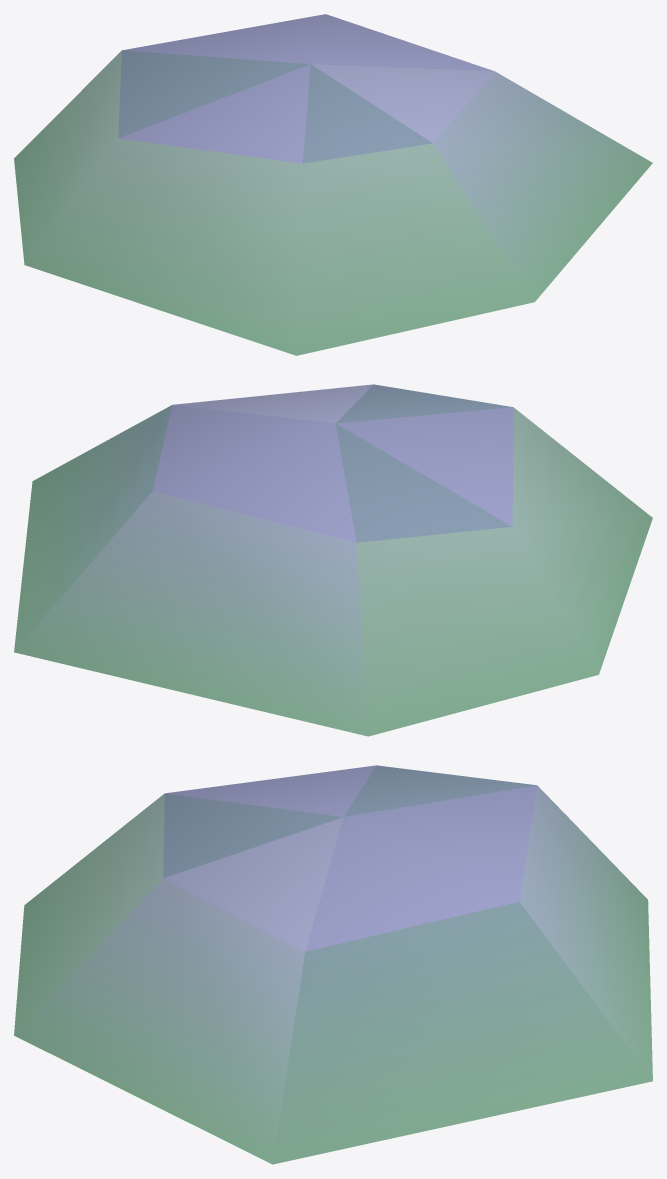
File: bluebell_patch_b_far.glb
The picture shows the model from 3 angles, top to bottom: view 1: azimuth 30°, elevation 25°; view 2: azimuth 150°, elevation 25°; view 3: azimuth 270°, elevation 25°; orthographic projection. The views are drawn at different scales.
Visible parts, largest first — view 1: soft; view 2: soft; view 3: soft.
Boxes of the visible parts, x1,y1,x2,y2 form: soft: (14, 14, 652, 355); soft: (14, 384, 652, 736); soft: (14, 765, 652, 1164).
Bounding box in the file's own units: 0.8801 × 0.222 × 0.7396.
